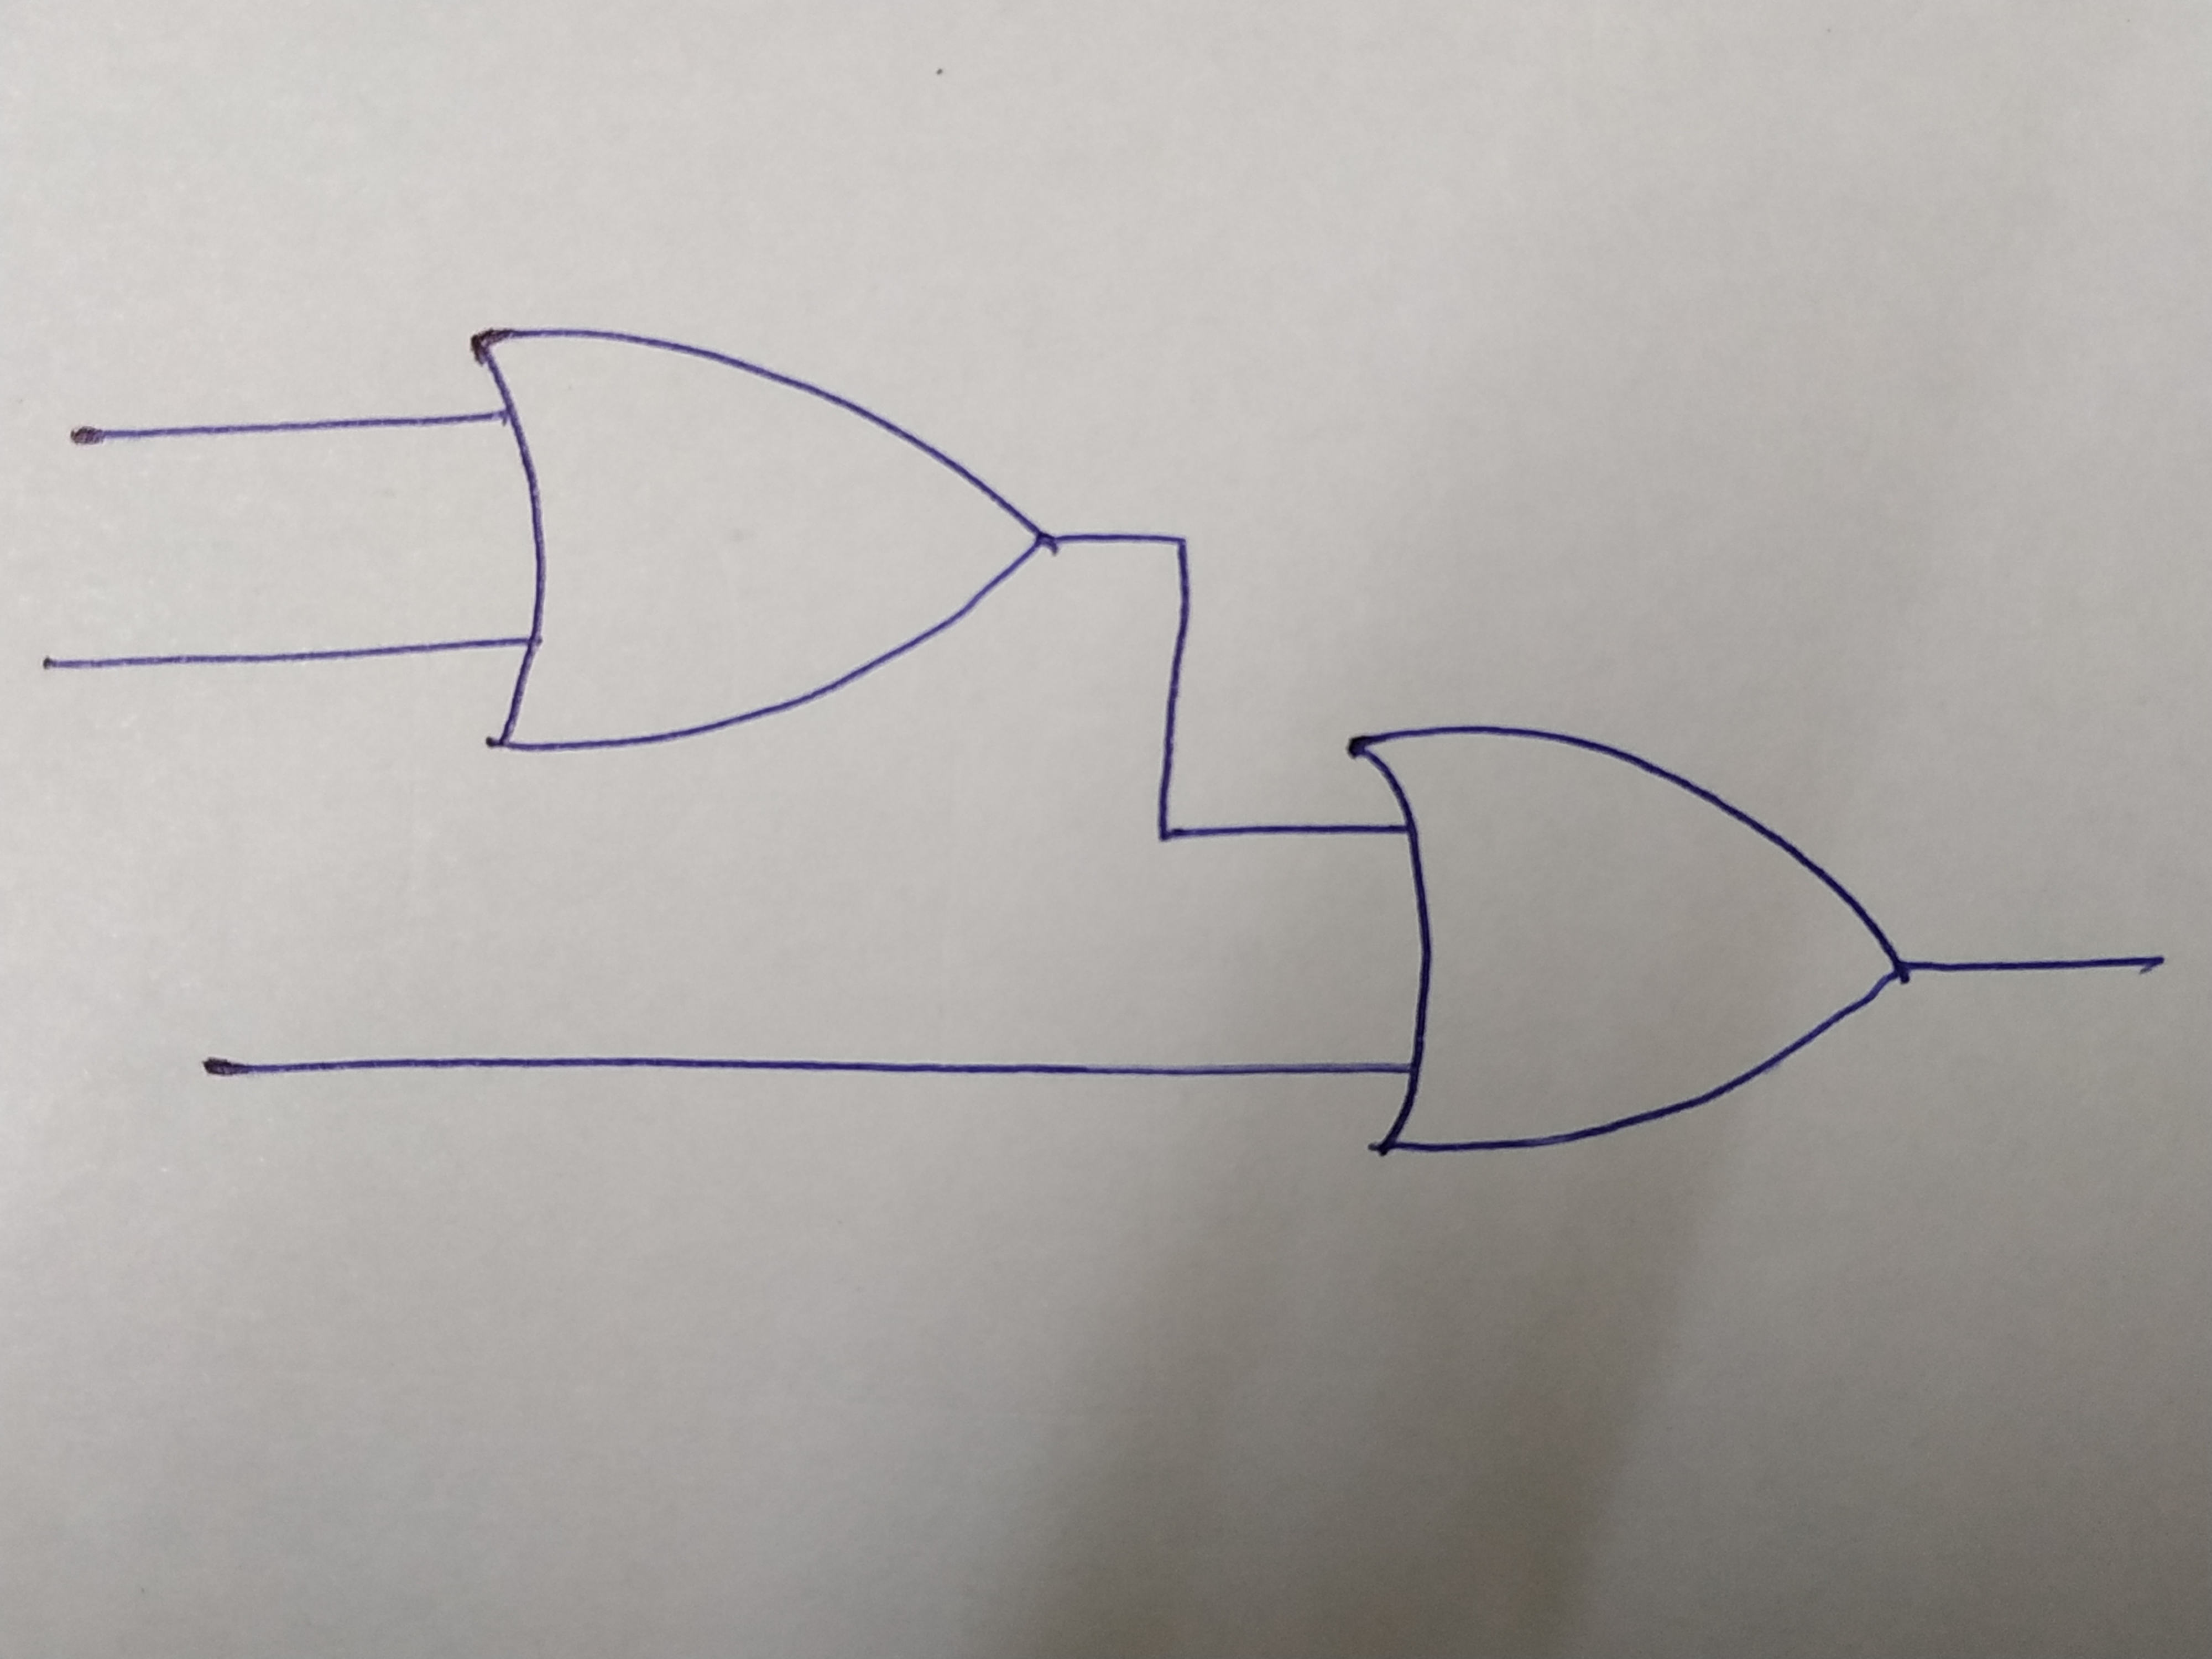or: (1339, 723, 1914, 1154), (465, 328, 1047, 748)
